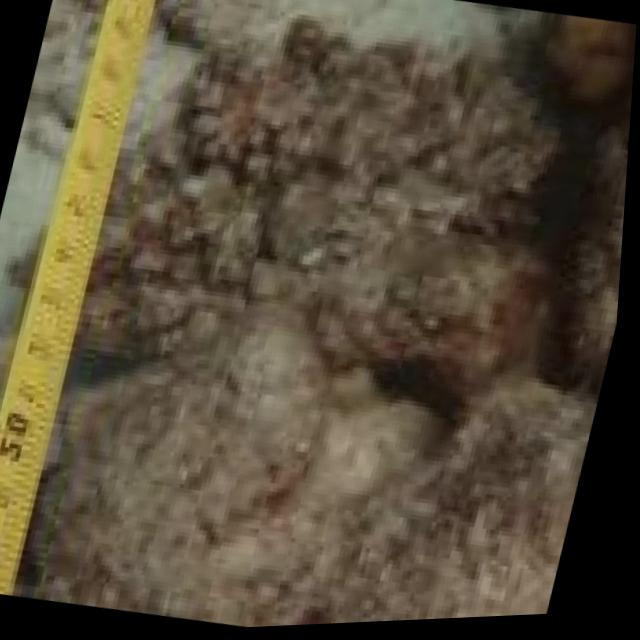Dead Coral: (20, 0, 640, 638)
